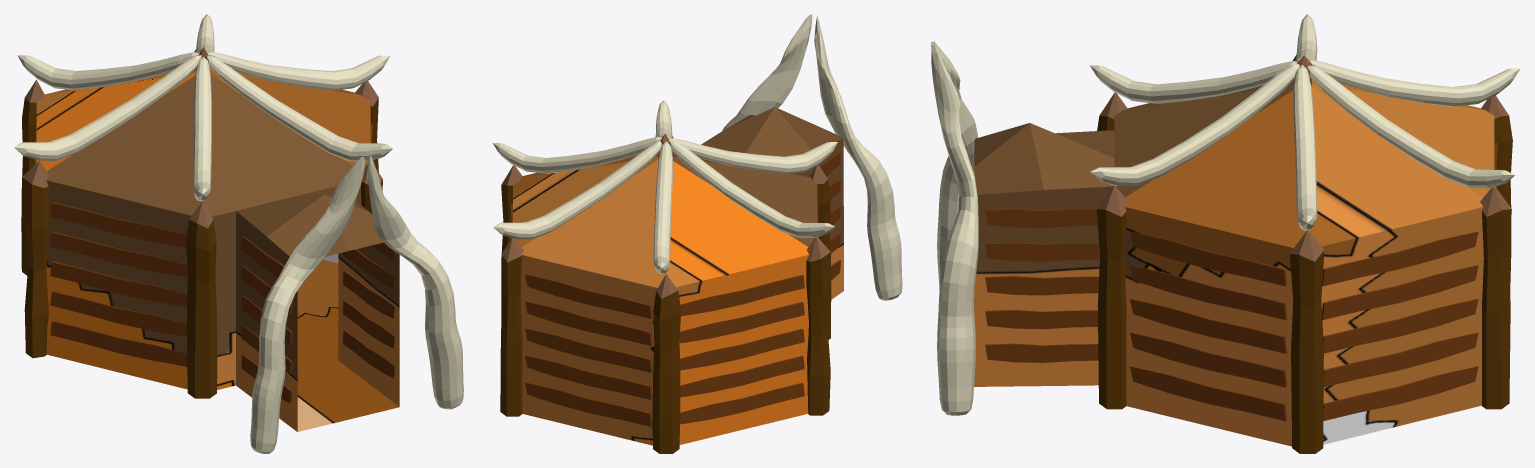
File: Orc House Model 3.fbx
The picture shows the model from 3 angles, left to right: view 1: azimuth 30°, elevation 25°; view 2: azimuth 150°, elevation 25°; view 3: azimuth 270°, elevation 25°; orthographic projection. The views are drawn at different scales.
Parts seen in each view (by area): view 1: Main House, Bones, Assi, Pilastri; view 2: Main House, Bones, Assi, Pilastri; view 3: Main House, Assi, Bones, Pilastri.
Part boxes in pixels (box(x1,y1,x2,y2)): Main House: box(36, 68, 399, 431); Bones: box(14, 14, 463, 453); Assi: box(35, 124, 394, 403); Pilastri: box(21, 47, 382, 398); Main House: box(513, 107, 843, 445); Bones: box(492, 14, 902, 300); Assi: box(510, 152, 840, 426); Pilastri: box(500, 133, 831, 453); Main House: box(974, 79, 1494, 446); Assi: box(985, 143, 1497, 421); Bones: box(931, 14, 1520, 415); Pilastri: box(1096, 55, 1512, 453).
Bounding box in the file's own units: 676 × 483 × 806.
